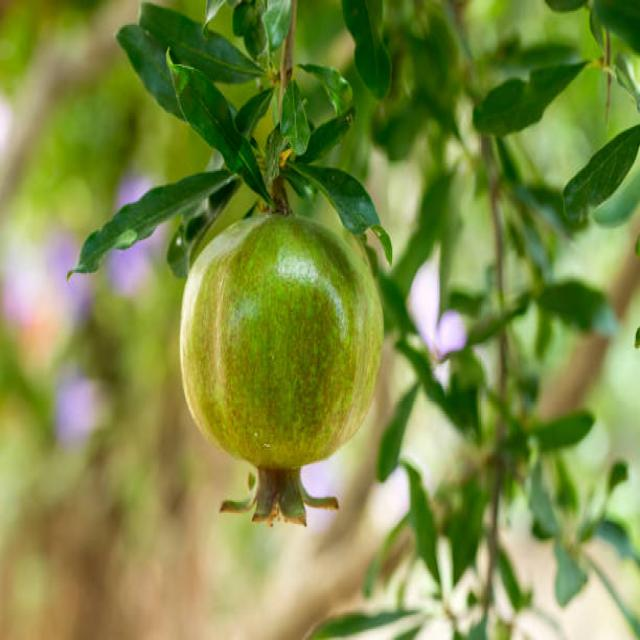Unripe: (179, 208, 384, 521)
